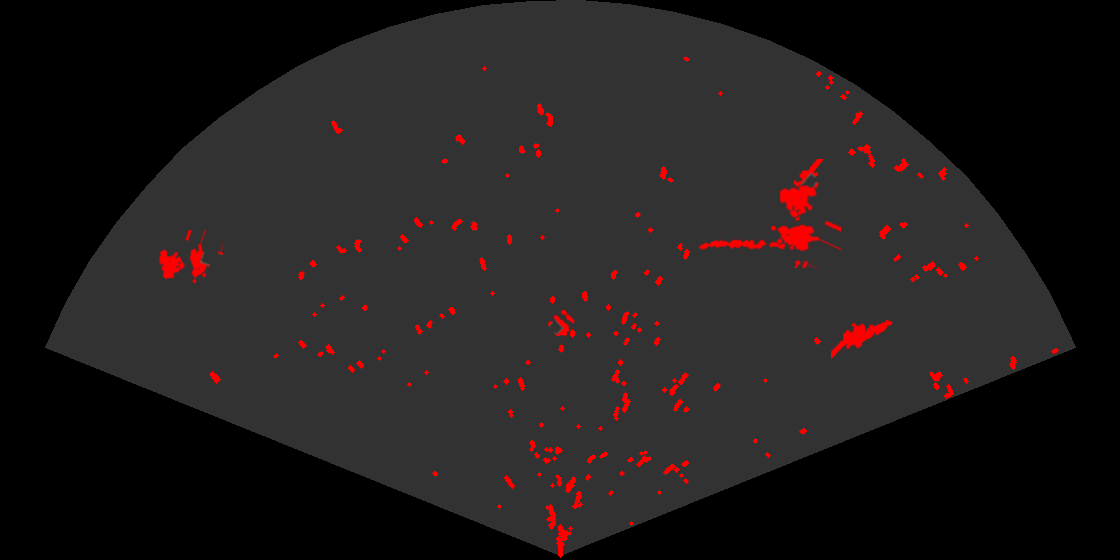ball: (546, 308, 576, 338)
cage: (769, 183, 841, 268), (157, 230, 223, 285)
chain: (698, 238, 787, 251)
frogman: (831, 318, 894, 361), (792, 159, 825, 223)
